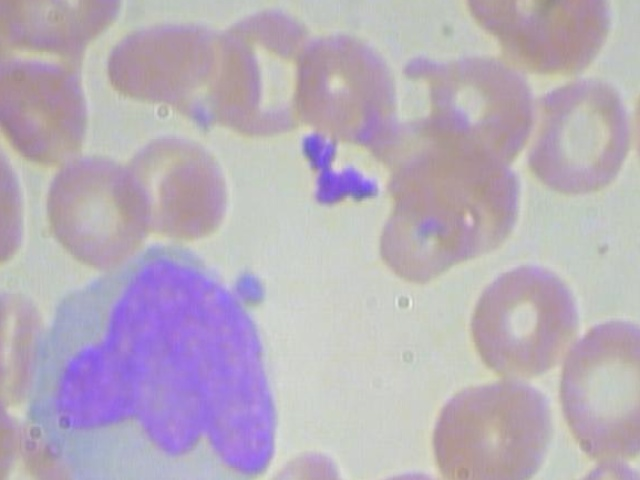Platelets: (306, 163, 347, 213), (229, 261, 275, 304), (292, 130, 339, 170), (341, 162, 383, 206)
RBC: (281, 24, 411, 143), (426, 366, 556, 480), (468, 263, 580, 385), (522, 72, 634, 194), (39, 151, 151, 263), (121, 128, 233, 240), (559, 313, 640, 467)
WBC: (17, 238, 291, 480)
